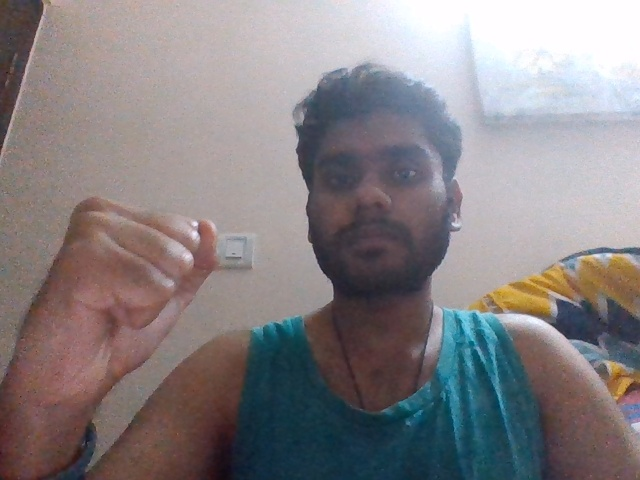yes: (10, 192, 232, 416)
